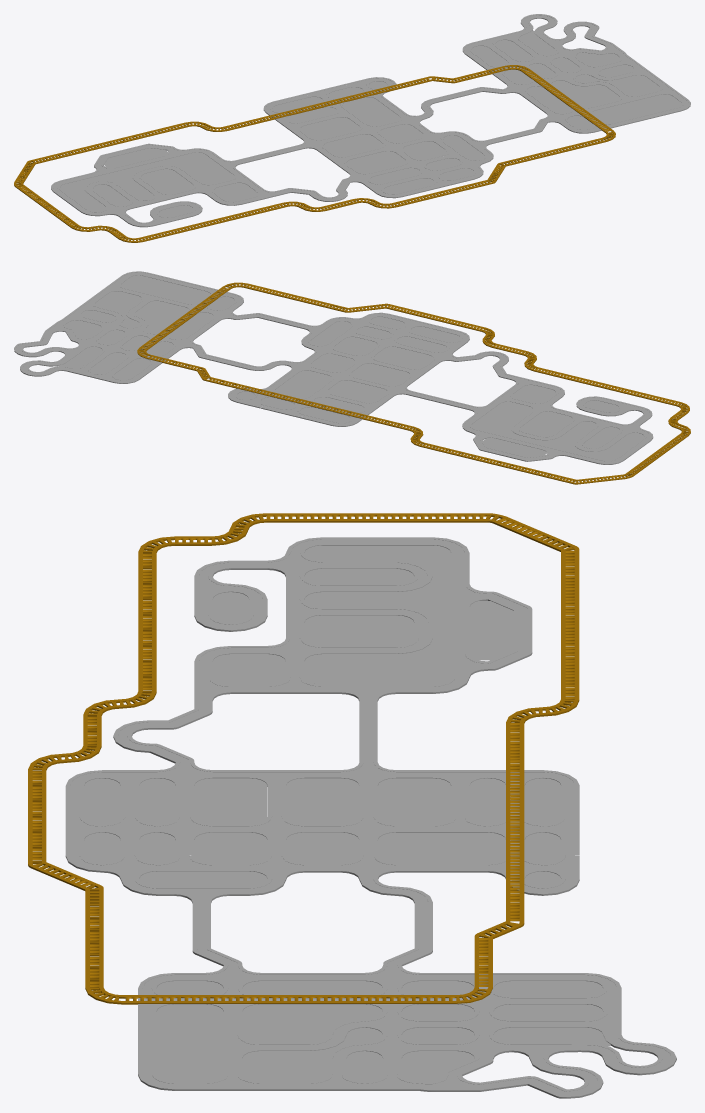
The model's file is Map.fbx.
The picture shows the model from 3 angles, top to bottom: view 1: azimuth 30°, elevation 25°; view 2: azimuth 150°, elevation 25°; view 3: azimuth 270°, elevation 25°; orthographic projection. The views are drawn at different scales.
Visible parts, largest first — view 1: polySurface1203, pPlane18, pPlane31, pPlane22, pPlane9, pPlane7, pPlane5, pPlane6, pPlane19, pPlane4, pPlane8, pPlane21 (+12 smaller); view 2: polySurface1203, pPlane18, pPlane31, pPlane22, pPlane9, pPlane5, pPlane6, pPlane7, pPlane19, pPlane4, pPlane8, pPlane21 (+12 smaller); view 3: polySurface1203, pPlane18, pPlane31, pPlane22, pPlane9, pPlane7, pPlane5, pPlane6, pPlane19, pPlane8, pPlane4, pPlane21 (+37 smaller).
Part boxes in pixels (x1,y1,x2,y2): polySurface1203: [14, 65, 615, 242]; pPlane18: [60, 152, 234, 211]; pPlane31: [551, 65, 659, 107]; pPlane22: [591, 94, 681, 123]; pPlane9: [343, 97, 400, 125]; pPlane7: [300, 117, 359, 139]; pPlane5: [323, 134, 383, 156]; pPlane6: [347, 151, 406, 173]; pPlane19: [104, 148, 168, 167]; pPlane4: [380, 124, 423, 142]; pPlane8: [403, 141, 446, 159]; pPlane21: [214, 183, 257, 200]; polySurface1203: [137, 282, 690, 484]; pPlane18: [471, 401, 643, 460]; pPlane31: [81, 291, 189, 333]; pPlane22: [121, 275, 210, 303]; pPlane9: [274, 370, 331, 398]; pPlane5: [351, 363, 410, 385]; pPlane6: [374, 346, 433, 368]; pPlane7: [328, 380, 387, 402]; pPlane19: [483, 437, 546, 456]; pPlane4: [311, 353, 354, 371]; pPlane8: [334, 337, 377, 354]; pPlane21: [512, 385, 555, 402]; polySurface1203: [28, 513, 579, 1004]; pPlane18: [304, 545, 451, 684]; pPlane31: [242, 1004, 383, 1081]; pPlane22: [156, 1004, 223, 1081]; pPlane9: [377, 832, 505, 863]; pPlane7: [377, 778, 451, 824]; pPlane5: [286, 778, 359, 824]; pPlane6: [194, 778, 267, 824]; pPlane19: [469, 601, 513, 660]; pPlane8: [191, 832, 267, 863]; pPlane4: [286, 832, 359, 863]; pPlane21: [212, 654, 285, 684].
Size of the model in its own units: 75152 by 163 by 35345.
